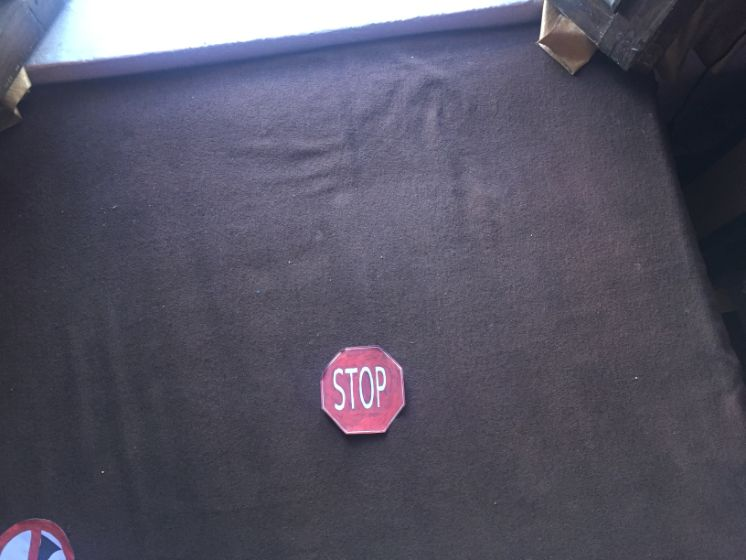no-horn: (1, 507, 76, 560)
stop: (319, 346, 411, 433)
